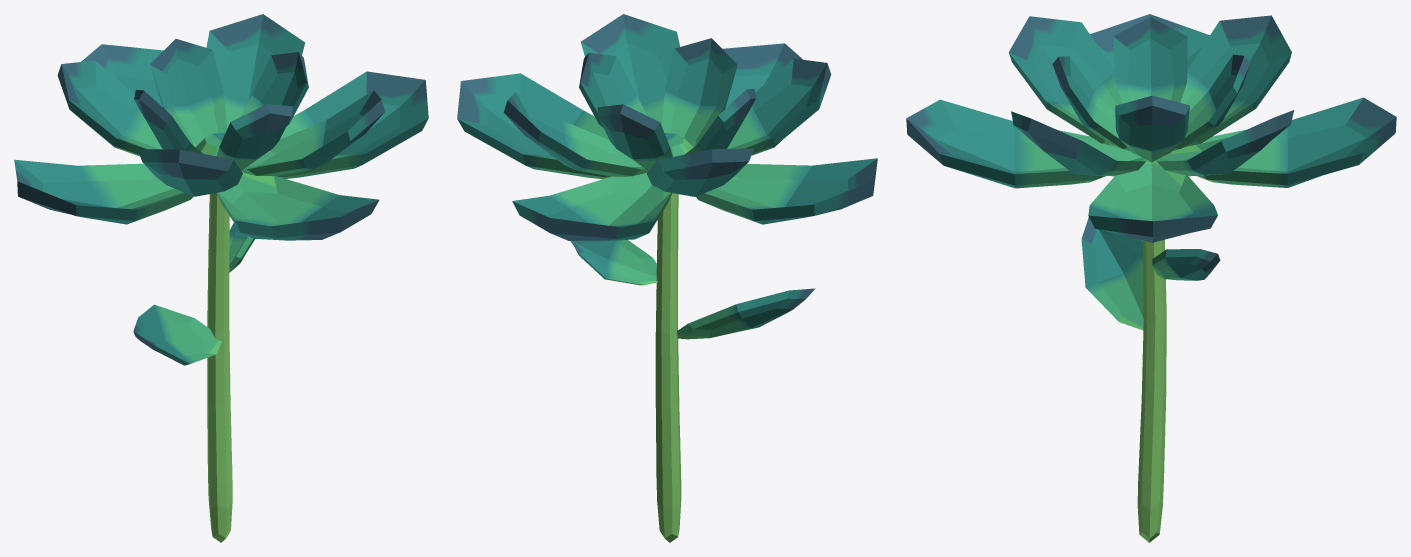
File: Flower_7.fbx
3 views of the same model, side by side, from view 1: azimuth 30°, elevation 25°; view 2: azimuth 150°, elevation 25°; view 3: azimuth 270°, elevation 25° (orthographic). The views are drawn at different scales.
Parts seen in each view (by area): view 1: Flower_7; view 2: Flower_7; view 3: Flower_7.
Part boxes in pixels (x1,y1,x2,y2): Flower_7: (14, 14, 428, 542); Flower_7: (457, 14, 877, 542); Flower_7: (906, 14, 1396, 542).
Bounding box in the file's own units: 36.92 × 40.48 × 36.92.
